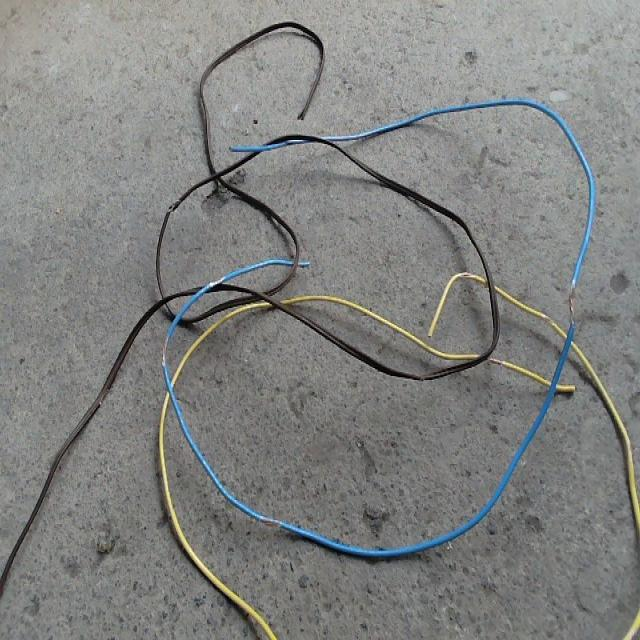-: (567, 282, 576, 326), (259, 515, 280, 528), (160, 334, 168, 366), (208, 273, 223, 288), (488, 355, 504, 365), (456, 270, 472, 278)
